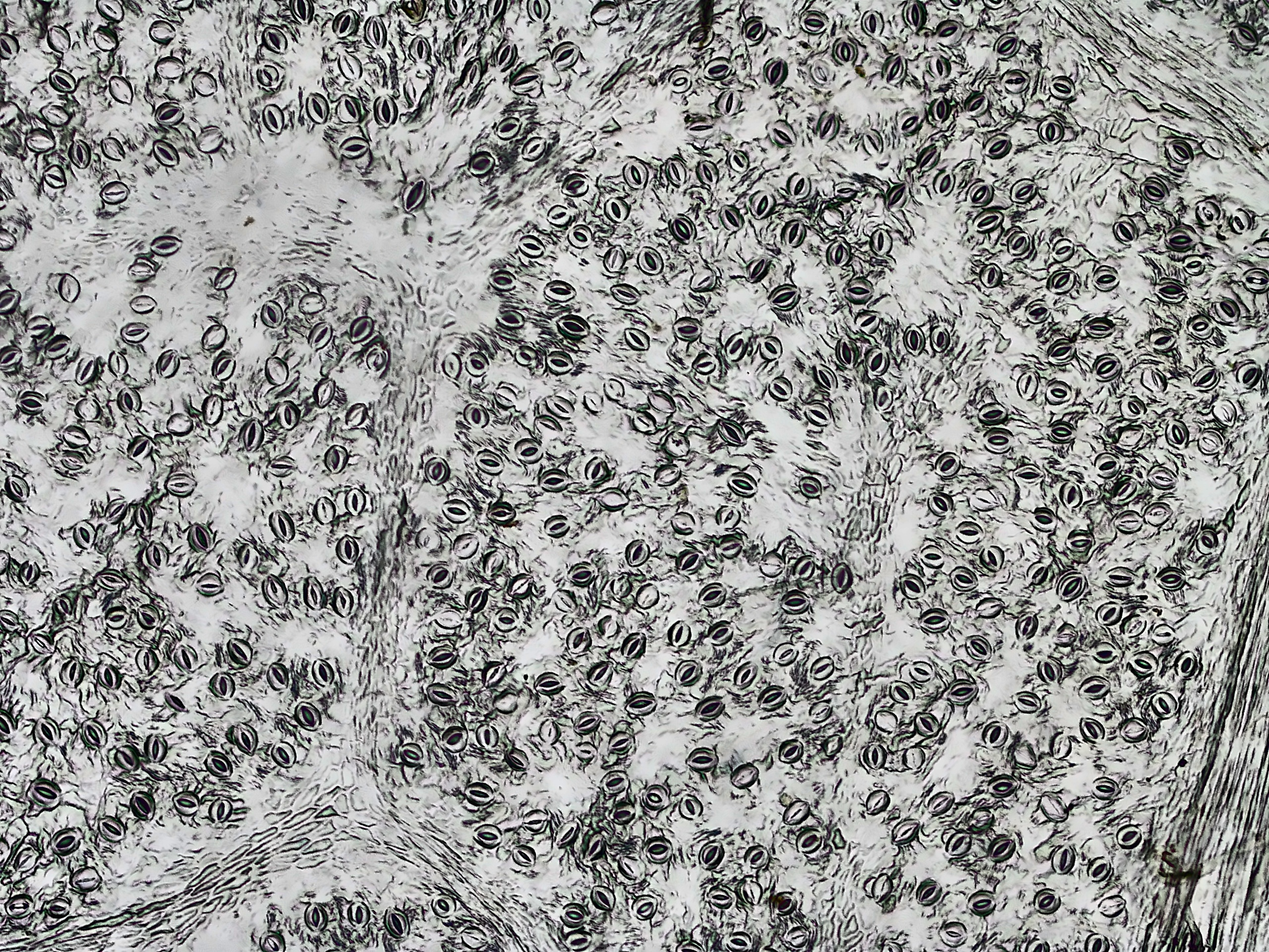stomata: (231, 721, 258, 756), (1056, 571, 1087, 601), (768, 284, 802, 311), (765, 119, 797, 147), (863, 345, 889, 379), (668, 213, 697, 243), (1039, 791, 1068, 821), (1149, 690, 1179, 719), (716, 417, 747, 445), (756, 684, 788, 711), (1165, 226, 1197, 253), (270, 509, 296, 542), (916, 608, 949, 634), (841, 277, 874, 303), (293, 701, 322, 730), (188, 522, 215, 553), (1140, 177, 1171, 204), (943, 680, 979, 703), (427, 682, 460, 707), (557, 315, 590, 340), (685, 747, 718, 772), (982, 427, 1015, 452), (363, 16, 387, 50), (475, 448, 504, 476), (748, 189, 776, 218), (51, 827, 80, 855), (934, 19, 964, 46), (270, 739, 296, 770), (698, 840, 724, 871), (303, 576, 326, 611), (595, 488, 630, 511), (374, 94, 399, 126), (262, 574, 287, 606), (385, 907, 410, 939), (1050, 843, 1075, 875), (82, 718, 106, 751), (494, 38, 518, 71), (69, 867, 102, 891), (986, 774, 1019, 798), (1078, 675, 1111, 699), (492, 606, 520, 634), (1093, 353, 1121, 381), (994, 31, 1022, 59), (1231, 23, 1259, 51), (204, 750, 233, 777), (912, 712, 941, 739), (1128, 651, 1157, 678), (333, 8, 359, 38), (34, 717, 60, 747), (1164, 419, 1190, 449), (702, 56, 733, 81), (741, 15, 766, 46), (95, 569, 130, 591), (427, 645, 459, 669), (306, 91, 329, 124), (196, 126, 224, 153), (1036, 657, 1064, 684), (1187, 313, 1214, 341), (1092, 264, 1120, 291), (966, 180, 993, 208), (551, 42, 579, 69), (424, 457, 450, 486), (637, 246, 663, 275), (673, 316, 702, 342), (723, 332, 749, 361), (130, 790, 156, 819), (891, 819, 920, 845), (939, 922, 968, 948), (983, 133, 1012, 159), (59, 657, 84, 687), (172, 644, 197, 674), (227, 636, 252, 666), (29, 781, 59, 806), (781, 218, 806, 248), (698, 582, 728, 607), (643, 838, 673, 863), (1147, 465, 1177, 490), (1113, 509, 1143, 534), (1046, 270, 1076, 295), (403, 178, 425, 212), (543, 280, 577, 302), (338, 52, 362, 83), (534, 671, 565, 695), (626, 691, 657, 715), (779, 589, 810, 613), (146, 539, 169, 571), (1154, 280, 1186, 303), (152, 140, 179, 167), (675, 660, 702, 687), (926, 791, 953, 818), (426, 563, 454, 589), (622, 161, 648, 189), (982, 720, 1008, 748), (915, 878, 941, 906), (1009, 177, 1037, 203), (833, 38, 859, 66), (332, 586, 354, 619), (308, 322, 333, 351), (466, 152, 495, 177), (715, 504, 744, 529), (946, 830, 971, 859), (1047, 339, 1076, 364), (1058, 480, 1083, 509), (25, 128, 55, 152), (585, 456, 609, 486), (727, 473, 757, 497), (472, 824, 502, 848), (1119, 717, 1149, 741), (882, 54, 906, 84), (242, 419, 265, 450), (74, 520, 97, 551), (836, 337, 859, 368), (1155, 567, 1186, 590), (16, 392, 48, 414), (164, 475, 196, 497), (831, 561, 853, 593), (903, 324, 925, 356), (49, 68, 76, 94), (464, 401, 490, 428), (664, 431, 691, 457), (97, 815, 124, 841), (441, 727, 468, 753), (677, 549, 704, 575), (706, 619, 733, 645), (988, 836, 1015, 862), (1034, 888, 1061, 914), (1141, 366, 1167, 393), (1111, 476, 1138, 502), (1214, 296, 1240, 323), (1113, 217, 1139, 244), (5, 475, 30, 503), (482, 660, 507, 688), (514, 438, 542, 463), (625, 539, 650, 567), (967, 890, 995, 915), (950, 566, 978, 591), (1028, 507, 1056, 532), (1191, 365, 1219, 390), (1212, 399, 1237, 427), (156, 350, 180, 379), (260, 300, 284, 329), (325, 445, 349, 474), (442, 498, 471, 522), (4, 894, 33, 918), (464, 782, 493, 806), (696, 696, 725, 720), (1001, 68, 1030, 92), (1165, 139, 1194, 163), (800, 11, 829, 35), (154, 102, 184, 125), (337, 94, 360, 124), (109, 75, 132, 105), (336, 534, 359, 564), (487, 502, 517, 525), (604, 244, 627, 274), (539, 469, 569, 492), (600, 771, 630, 794), (1039, 115, 1062, 145), (764, 57, 787, 87), (862, 9, 885, 39), (590, 2, 620, 25), (41, 104, 72, 126), (511, 70, 542, 92), (544, 396, 575, 418), (567, 561, 593, 587), (783, 799, 809, 825), (631, 895, 657, 921), (966, 634, 992, 660), (1068, 529, 1094, 555), (1236, 362, 1262, 388), (1197, 429, 1223, 455), (263, 26, 288, 53), (148, 20, 175, 45), (202, 325, 227, 352), (210, 672, 235, 699), (719, 204, 744, 231), (786, 172, 811, 199), (827, 240, 852, 267), (173, 790, 198, 817), (731, 762, 758, 787), (1048, 75, 1075, 100), (266, 357, 290, 385), (276, 401, 300, 429), (647, 389, 675, 413), (1044, 380, 1072, 404), (99, 181, 128, 204), (1091, 776, 1120, 799), (1144, 503, 1173, 526), (916, 143, 939, 172), (58, 273, 80, 303), (202, 395, 224, 425), (166, 414, 196, 436), (144, 733, 166, 763), (1107, 565, 1137, 587), (1046, 421, 1076, 443), (973, 210, 1003, 232), (817, 110, 839, 140), (69, 138, 90, 169), (977, 402, 1008, 423), (117, 388, 142, 414), (128, 435, 154, 460), (508, 574, 533, 600), (518, 234, 544, 259), (603, 197, 629, 222), (431, 892, 456, 918), (642, 784, 667, 810), (796, 829, 822, 854), (591, 885, 616, 911), (561, 902, 587, 927), (1087, 856, 1112, 882), (1116, 824, 1142, 849), (1079, 717, 1105, 742), (1121, 614, 1147, 639), (1096, 601, 1122, 626), (1095, 452, 1121, 477), (136, 647, 160, 674), (805, 402, 832, 426), (521, 810, 548, 834), (538, 718, 562, 745), (587, 661, 614, 685), (567, 627, 591, 654), (667, 620, 691, 647), (1053, 622, 1077, 649), (854, 309, 881, 333), (885, 182, 909, 209), (718, 88, 742, 115), (408, 35, 431, 63), (62, 424, 90, 447), (98, 662, 121, 690), (266, 663, 289, 691), (305, 904, 328, 932), (461, 926, 489, 949), (573, 711, 601, 734), (340, 136, 369, 158), (155, 57, 184, 79), (75, 356, 97, 385), (313, 377, 335, 406), (665, 158, 687, 187), (813, 362, 835, 391), (715, 536, 744, 558), (1012, 690, 1041, 712), (1016, 611, 1038, 640), (262, 104, 283, 134), (115, 745, 140, 770), (609, 801, 634, 826), (760, 551, 785, 576), (809, 656, 834, 681), (778, 739, 803, 764), (979, 263, 1004, 288), (454, 534, 478, 560), (768, 376, 792, 402), (209, 799, 233, 825), (13, 848, 39, 872), (347, 901, 371, 927), (475, 723, 499, 749), (734, 661, 758, 687), (544, 514, 570, 538), (635, 583, 659, 609), (866, 789, 890, 815), (935, 452, 959, 478), (1196, 201, 1220, 227), (1228, 208, 1252, 234), (47, 26, 70, 53), (350, 316, 373, 343), (546, 351, 573, 374), (745, 255, 768, 282), (562, 174, 589, 197), (739, 877, 762, 904), (1175, 651, 1198, 678), (898, 574, 925, 597), (981, 545, 1004, 572), (927, 492, 954, 515), (1149, 328, 1176, 351), (933, 169, 956, 196), (869, 228, 892, 255), (861, 129, 884, 156), (534, 414, 562, 436), (1098, 895, 1126, 917), (872, 873, 894, 901), (610, 572, 631, 601), (92, 27, 117, 51), (150, 235, 180, 255), (28, 631, 53, 655), (465, 351, 489, 376), (521, 136, 546, 160), (611, 284, 641, 304), (597, 614, 621, 639), (808, 698, 833, 722), (889, 680, 914, 704), (901, 745, 925, 770), (744, 844, 768, 869), (968, 807, 993, 831), (1085, 317, 1115, 337), (192, 73, 218, 96), (345, 402, 368, 428), (679, 794, 702, 820), (622, 632, 645, 658), (670, 512, 696, 535), (1025, 299, 1051, 322), (688, 26, 714, 49), (74, 398, 101, 420), (196, 573, 223, 595), (312, 659, 334, 686), (314, 496, 336, 523), (654, 464, 681, 486), (1016, 371, 1038, 398), (1120, 396, 1147, 418), (496, 309, 524, 330), (488, 270, 516, 291), (1050, 732, 1071, 760), (955, 522, 983, 543), (483, 548, 503, 577), (563, 930, 592, 950), (586, 833, 606, 862), (568, 224, 592, 248), (920, 545, 944, 569), (964, 93, 988, 117), (496, 117, 521, 140), (633, 410, 656, 435), (773, 641, 798, 664), (668, 68, 691, 93), (18, 561, 40, 587), (696, 160, 718, 186), (691, 269, 717, 291), (1196, 528, 1218, 554), (1008, 231, 1030, 257), (442, 351, 461, 381), (464, 60, 483, 90), (346, 489, 367, 516), (794, 554, 815, 581), (120, 323, 148, 343), (930, 324, 950, 352), (873, 384, 893, 412), (931, 95, 951, 123), (686, 120, 717, 138), (100, 138, 124, 161), (625, 328, 649, 351), (759, 336, 782, 360), (512, 845, 536, 868), (874, 710, 898, 733), (618, 854, 641, 878), (927, 55, 950, 79), (268, 457, 297, 476), (975, 597, 1004, 616), (1014, 464, 1043, 483), (213, 356, 235, 381), (105, 499, 127, 524), (138, 604, 160, 629), (163, 690, 188, 712), (556, 822, 578, 847), (552, 590, 577, 612), (466, 588, 487, 614), (1090, 641, 1116, 662), (707, 888, 734, 908), (1051, 238, 1074, 261), (46, 336, 70, 358), (603, 378, 625, 402), (494, 386, 518, 408), (864, 745, 886, 769), (573, 741, 597, 763), (909, 660, 934, 681), (1027, 560, 1048, 585), (127, 262, 156, 280), (25, 317, 51, 337), (691, 354, 717, 374), (238, 543, 257, 570), (44, 165, 66, 188), (401, 743, 423, 766), (822, 734, 844, 757), (367, 348, 388, 372), (547, 205, 571, 226), (1151, 624, 1175, 645), (1182, 254, 1206, 275), (810, 59, 831, 83), (608, 731, 633, 751), (725, 932, 750, 952), (833, 181, 859, 200), (130, 295, 157, 313), (214, 268, 236, 290), (799, 476, 821, 498), (258, 64, 279, 87), (514, 345, 537, 366), (774, 891, 795, 914), (896, 111, 919, 132), (105, 608, 129, 628), (729, 149, 748, 174), (455, 29, 473, 55), (507, 749, 529, 770), (786, 926, 808, 947), (47, 898, 70, 918), (109, 351, 127, 376), (135, 503, 152, 529), (54, 595, 73, 618), (584, 392, 604, 413)
